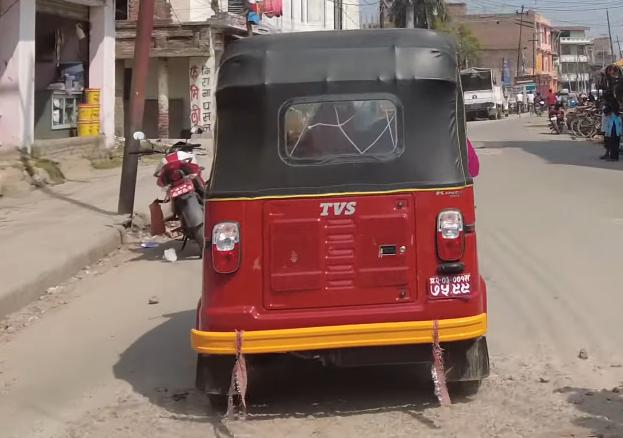auto_rickshaw: (199, 22, 494, 408)
bike: (123, 121, 209, 264)
